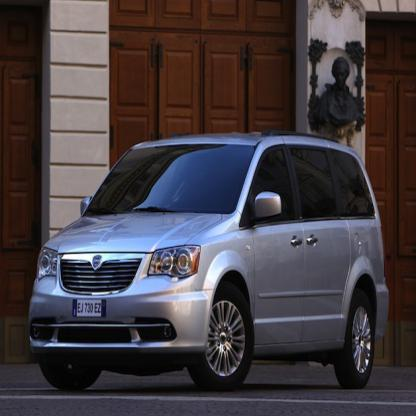Vehicle: (27, 127, 390, 396)
